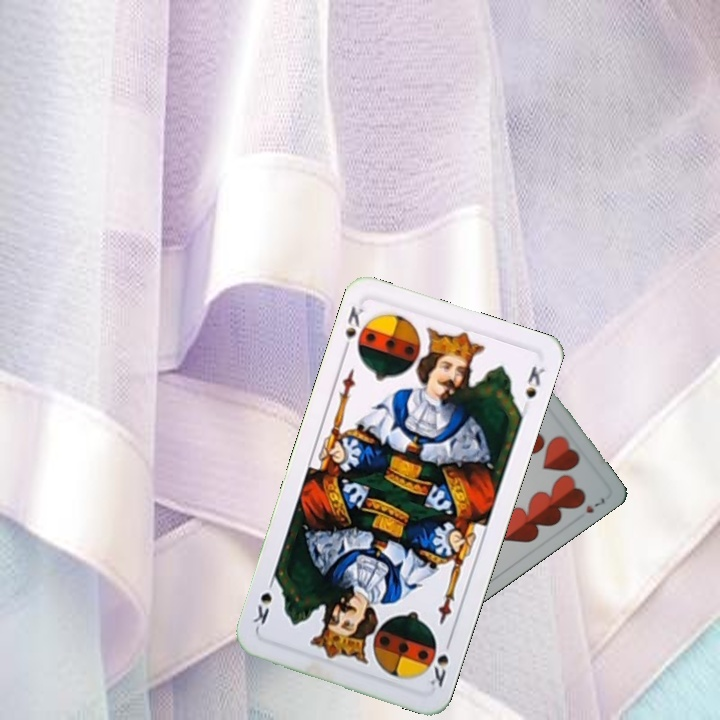SK: (338, 302, 372, 357), (425, 633, 455, 690)
